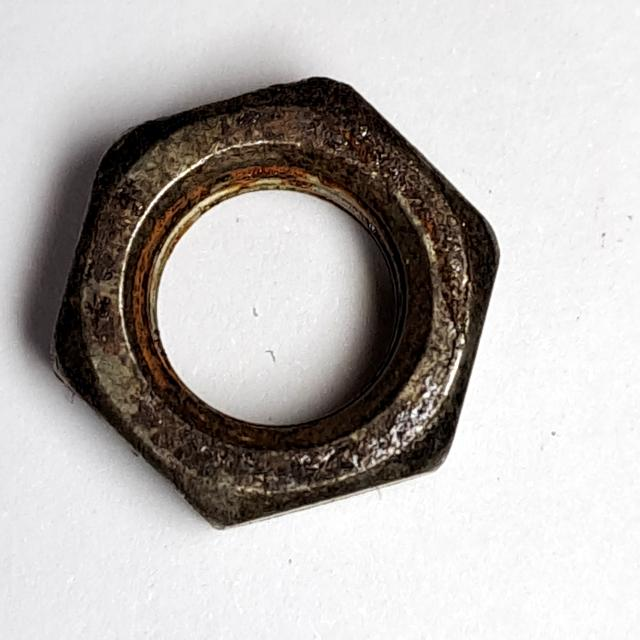Rust: (40, 68, 508, 545)
